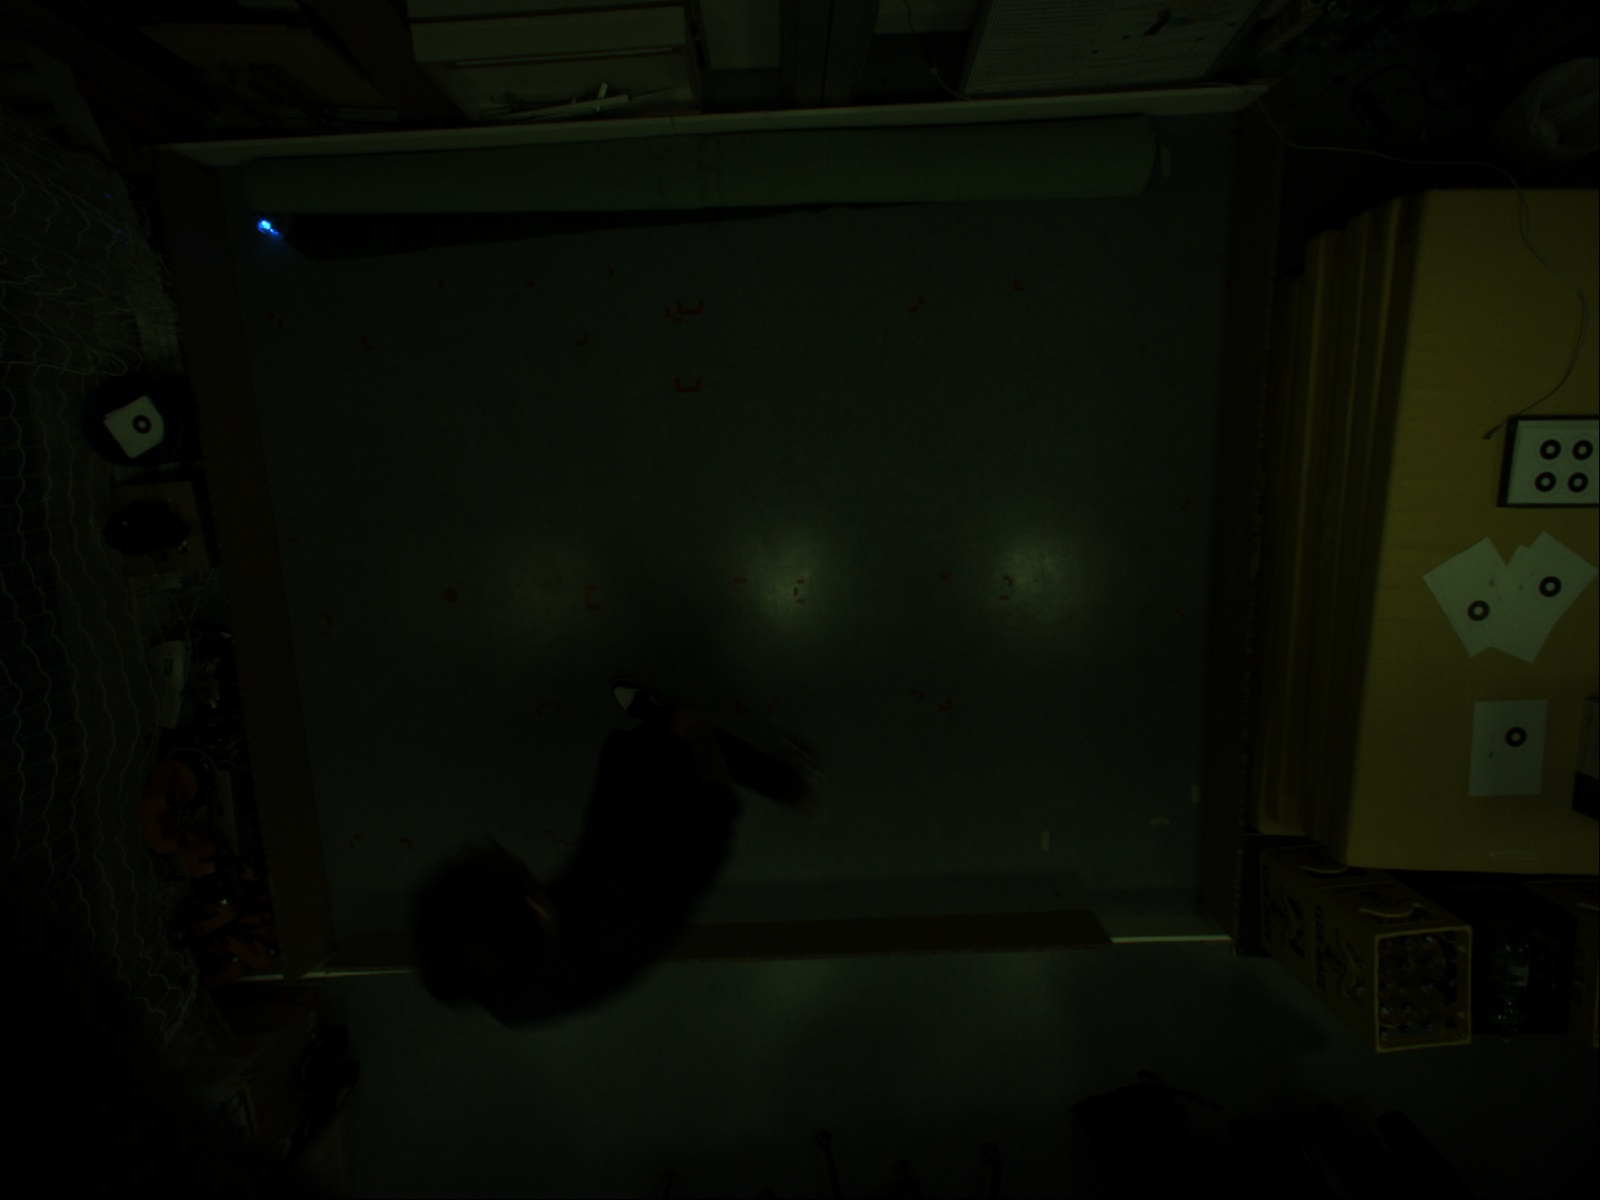sphero: (254, 213, 276, 236)
